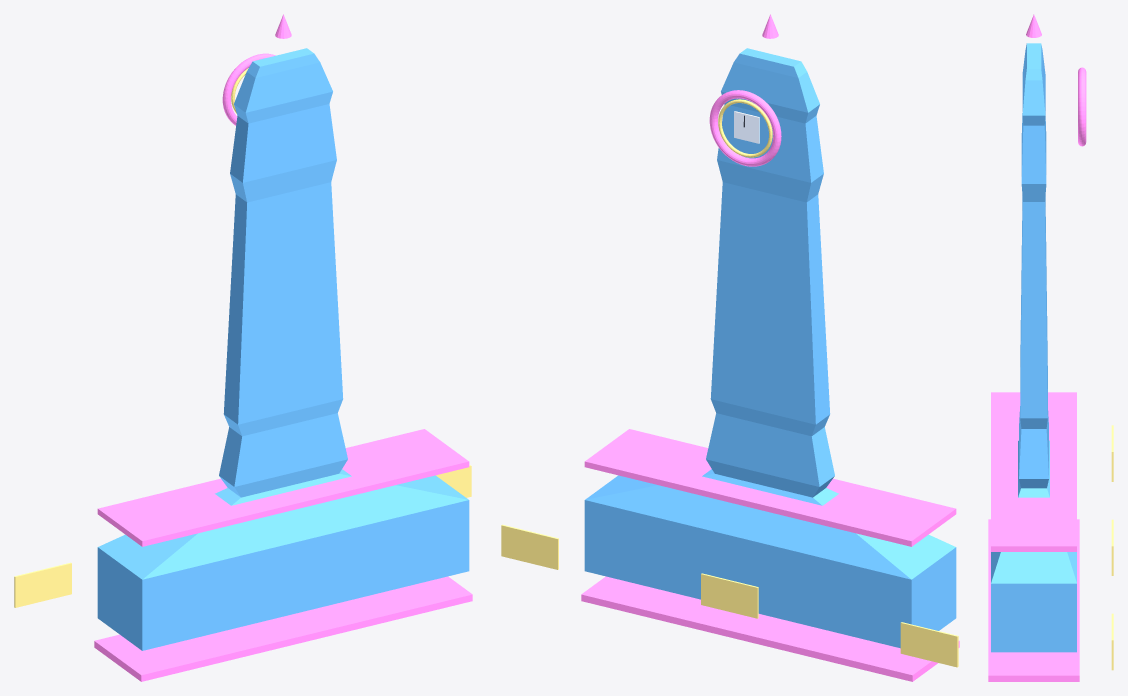
Rendered from tower_asset.glb.
3 renders of one model, left to right at view 1: azimuth 30°, elevation 25°; view 2: azimuth 150°, elevation 25°; view 3: azimuth 270°, elevation 25°, orthographic. The views are drawn at different scales.
Visible parts, largest first — view 1: TowerBody; view 2: TowerBody; view 3: TowerBody.
Boxes of the visible parts, box(x1,y1,x2,y2) form: TowerBody: box(14, 14, 472, 681); TowerBody: box(501, 14, 959, 681); TowerBody: box(988, 14, 1113, 681).
Bounding box in the file's own units: 10.05 × 12.85 × 2.47.
